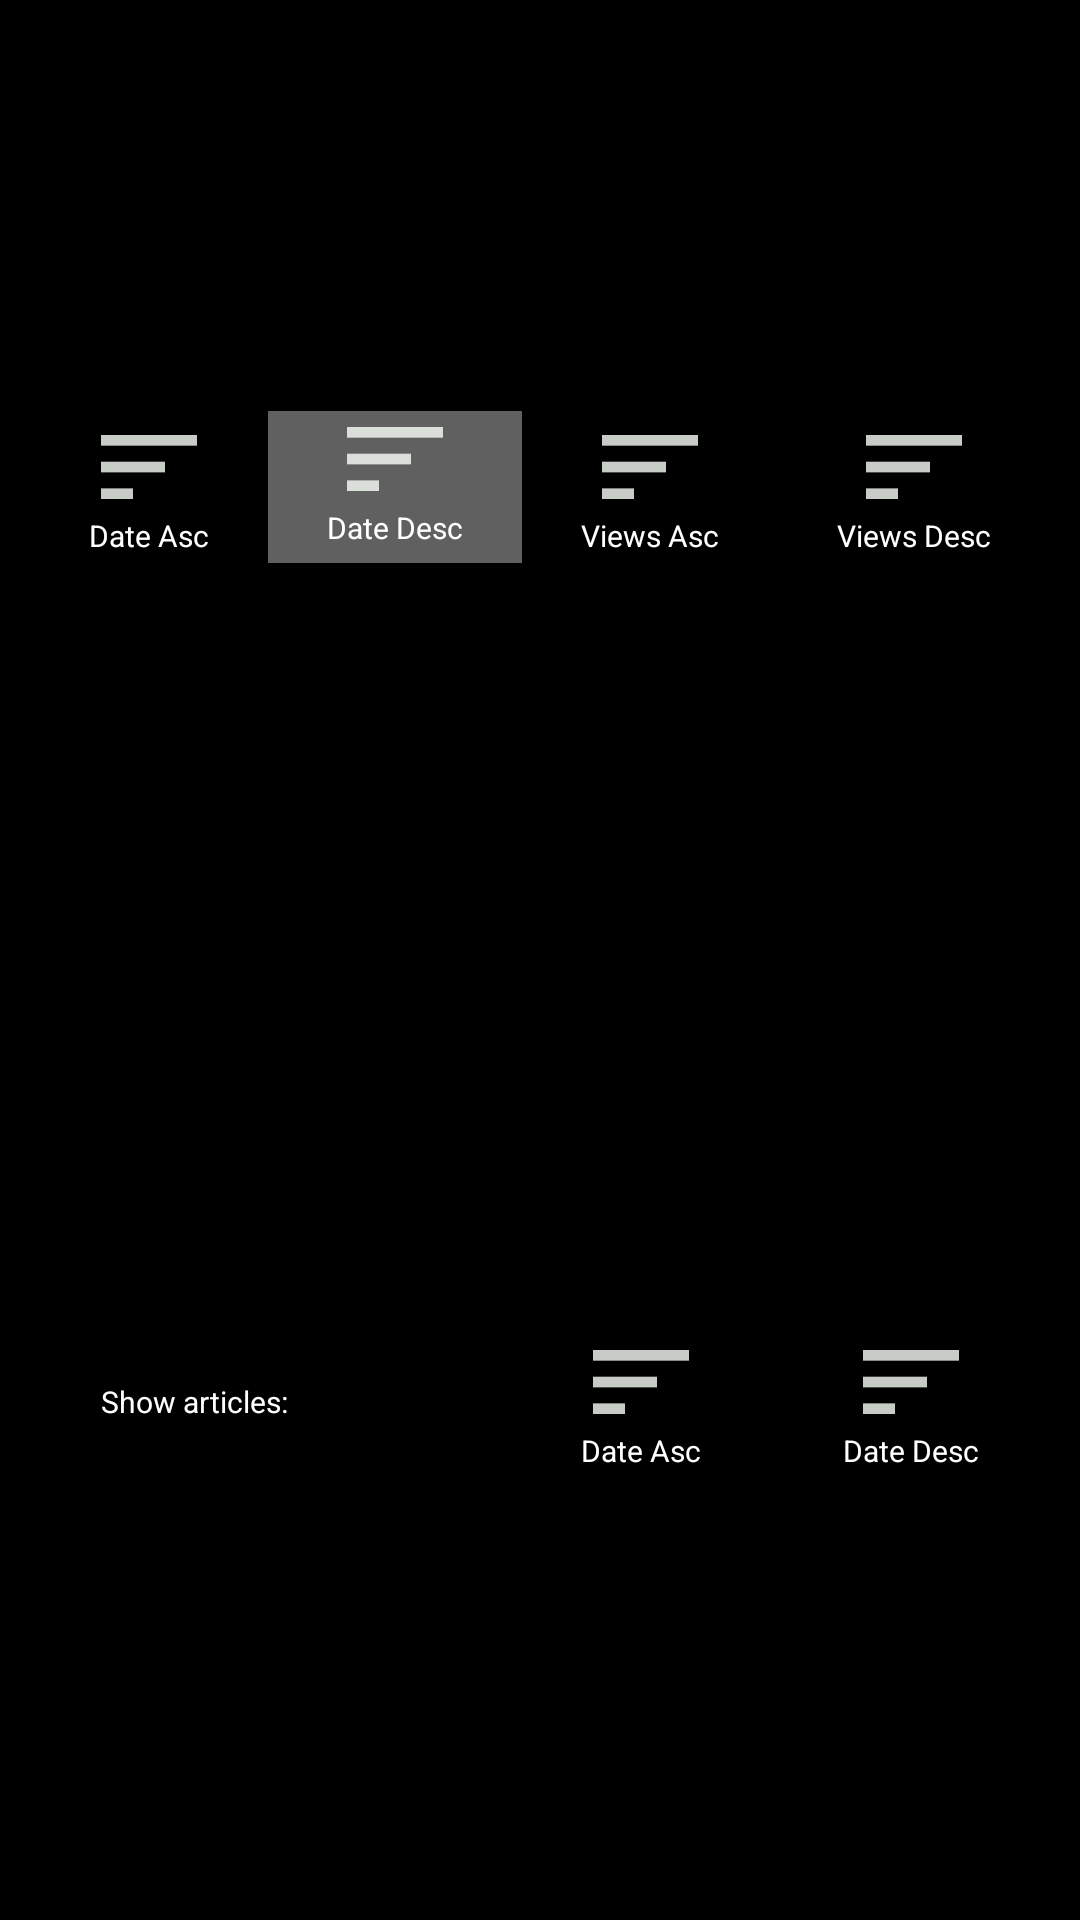

Where to tap for icons on this 1080w x 1920h app screen, as [x,y]:
bottom sort: [395,459], [149,467], [650,467], [914,467], [641,1382], [911,1382]
